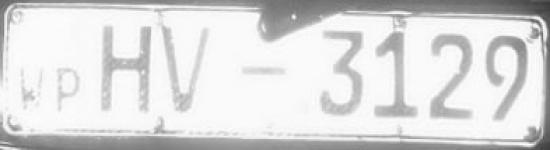-: (239, 60, 291, 85)
1: (372, 24, 422, 128)
2: (425, 26, 478, 127)
3: (318, 21, 368, 125)
9: (480, 30, 533, 130)
H: (97, 19, 156, 120)
P: (52, 62, 88, 122)
V: (158, 19, 220, 121)
W: (16, 65, 45, 115)
